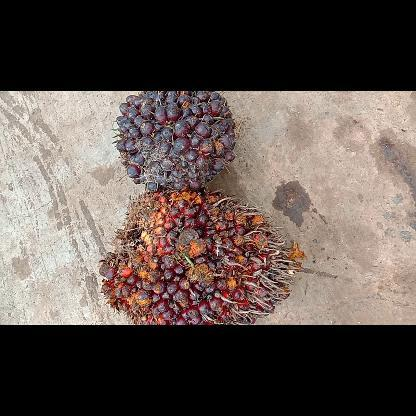TBS masak: (100, 190, 300, 324)
TBS mentah: (112, 91, 236, 191)
